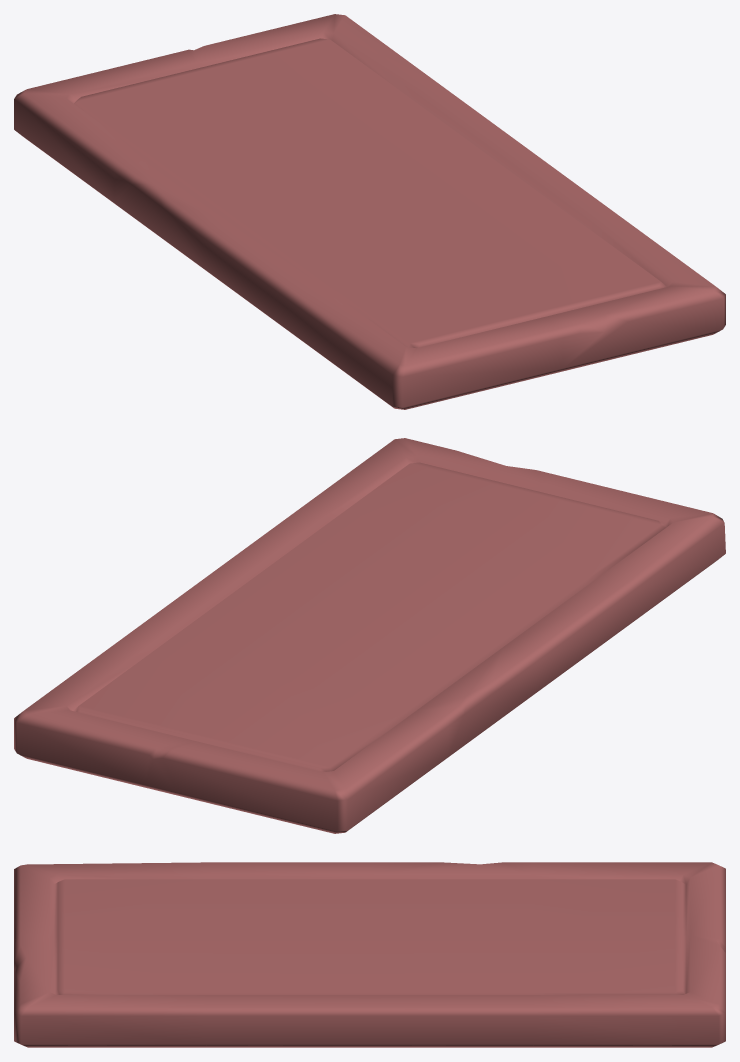
The model's file is PlatformLong.fbx.
3 renders of one model, top to bottom at view 1: azimuth 30°, elevation 25°; view 2: azimuth 150°, elevation 25°; view 3: azimuth 270°, elevation 25°, orthographic. The views are drawn at different scales.
Parts seen in each view (by area): view 1: PlatformLong; view 2: PlatformLong; view 3: PlatformLong.
Boxes of the visible parts, left/top/right/bottom form: PlatformLong: left=14, top=14, right=725, bottom=409; PlatformLong: left=14, top=438, right=725, bottom=833; PlatformLong: left=14, top=862, right=725, bottom=1047.
Size of the model in its own units: 400 by 50 by 800.
